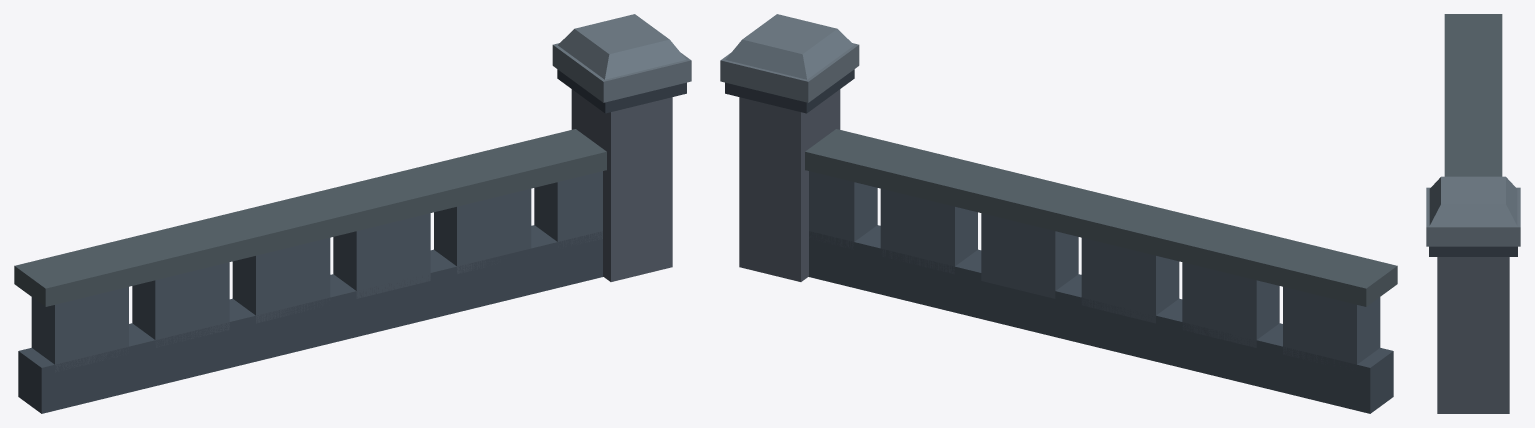
File: GardenWall.glb
3 renders of one model, left to right at view 1: azimuth 30°, elevation 25°; view 2: azimuth 150°, elevation 25°; view 3: azimuth 270°, elevation 25°, orthographic. The views are drawn at different scales.
Visible parts, largest first — view 1: GardenWall; view 2: GardenWall; view 3: GardenWall.
Part boxes in pixels (x1=…): GardenWall: x1=14, y1=14, x2=691, y2=413; GardenWall: x1=720, y1=14, x2=1397, y2=413; GardenWall: x1=1426, y1=14, x2=1520, y2=413.
Bounding box in the file's own units: 5.06 × 1.73 × 0.7.
